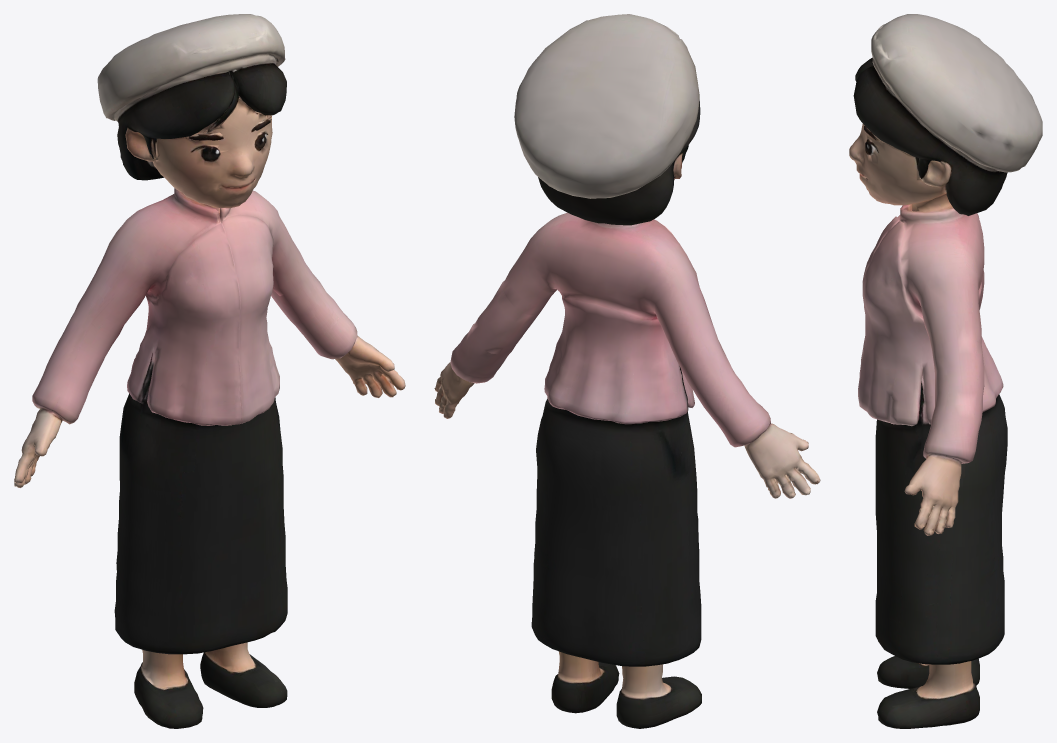
The model's file is co-chi.d53903dc.glb.
The picture shows the model from 3 angles, left to right: view 1: azimuth 30°, elevation 25°; view 2: azimuth 150°, elevation 25°; view 3: azimuth 270°, elevation 25°; orthographic projection.
Parts seen in each view (by area): view 1: tripo_node_40aec6ba-6cbd-4c4b-abe8-21dca952e52a; view 2: tripo_node_40aec6ba-6cbd-4c4b-abe8-21dca952e52a; view 3: tripo_node_40aec6ba-6cbd-4c4b-abe8-21dca952e52a.
Boxes of the visible parts, x1,y1,x2,y2 form: tripo_node_40aec6ba-6cbd-4c4b-abe8-21dca952e52a: (14, 14, 405, 728); tripo_node_40aec6ba-6cbd-4c4b-abe8-21dca952e52a: (434, 14, 820, 728); tripo_node_40aec6ba-6cbd-4c4b-abe8-21dca952e52a: (849, 14, 1042, 728).
Bounding box in the file's own units: 0.5839 × 0.9782 × 0.2546.
Materials: 1 (1 with a texture image).
